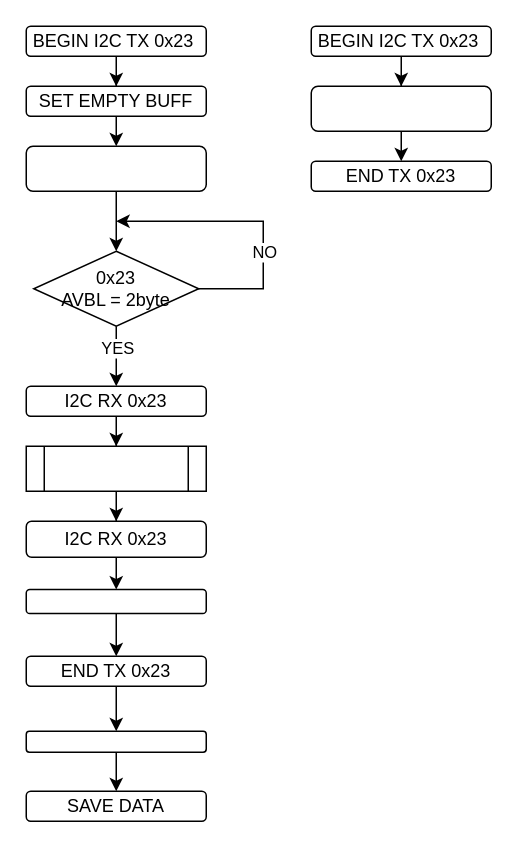
Some shapes in this 518 by 848 pixel diagram are drawn without their labels. The shapes that lost their labels are listed below. From the top down, each one's centre as x and y in pixels, then its label:
At (400,108): "I2C Write 0x23: 0x010".
At (115,168): "I2c REQUEST 2bytes -> 0x23".
At (115,468): "SHIFT BYTES IN BUFFER".
At (115,601): "CONCAT BYTES".
At (115,741): "CONVERT DATA".
